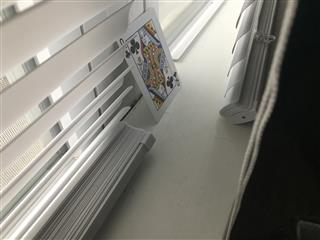QueenOfClubs: (116, 6, 183, 123)
